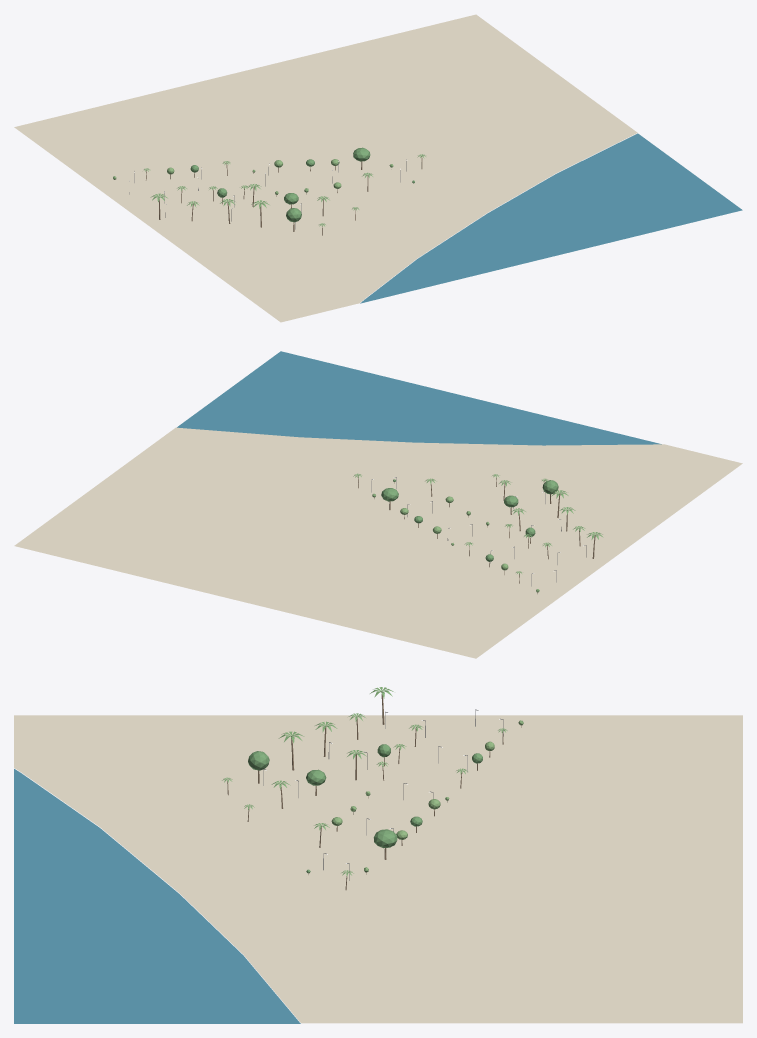
Rendered from nature_5_2.glb.
3 renders of one model, top to bottom at view 1: azimuth 30°, elevation 25°; view 2: azimuth 150°, elevation 25°; view 3: azimuth 270°, elevation 25°, orthographic. The views are drawn at different scales.
Visible parts, largest first — view 1: ground, water, foliage_a, palm_leaf; view 2: ground, water, foliage_a, palm_leaf; view 3: ground, water, foliage_a, palm_leaf, trunk.
Boxes of the visible parts, left/top/right/bottom form: ground: left=14, top=14, right=637, bottom=322; water: left=360, top=133, right=742, bottom=303; foliage_a: left=190, top=147, right=414, bottom=222; palm_leaf: left=144, top=154, right=425, bottom=226; ground: left=14, top=427, right=742, bottom=658; water: left=177, top=351, right=661, bottom=445; foliage_a: left=381, top=479, right=558, bottom=561; palm_leaf: left=353, top=473, right=603, bottom=574; ground: left=14, top=715, right=742, bottom=1023; water: left=14, top=769, right=300, bottom=1023; foliage_a: left=248, top=744, right=482, bottom=873; palm_leaf: left=222, top=687, right=507, bottom=876; trunk: left=227, top=691, right=521, bottom=890.
Bounding box in the file's own units: 250 × 13.5 × 250.
